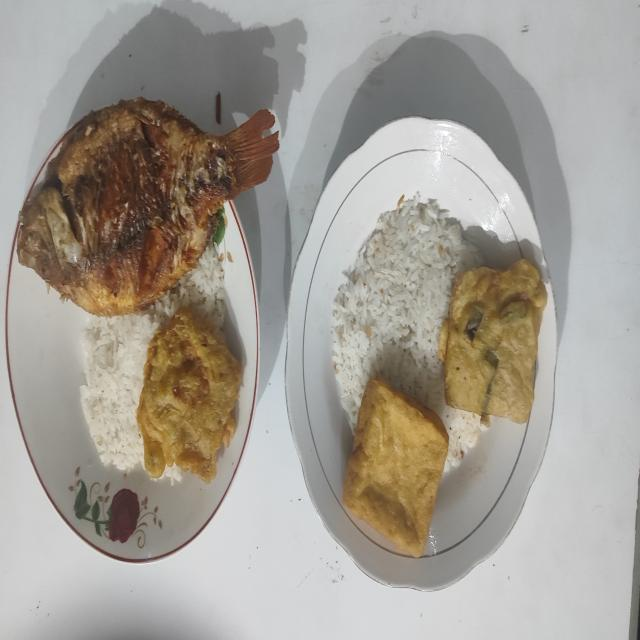ikan_mujair: (18, 97, 278, 316)
nasi_putih: (331, 192, 486, 472), (81, 247, 225, 470)
tahu_goreng: (343, 378, 448, 556)
